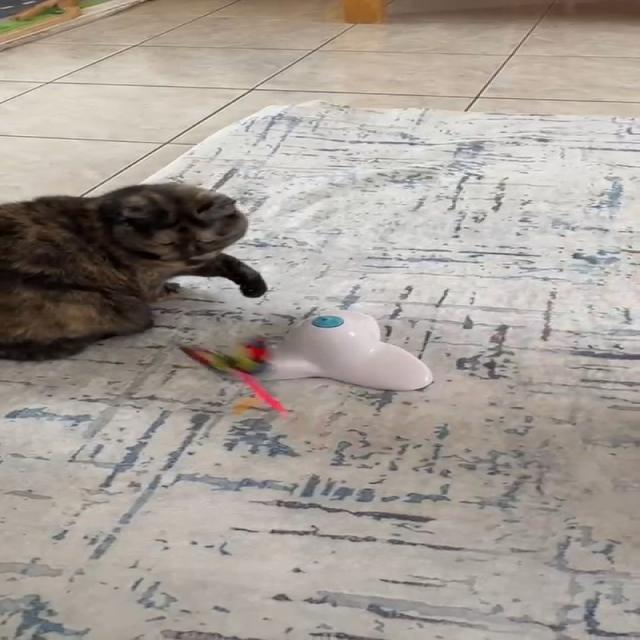authorized: (0, 181, 267, 362)
